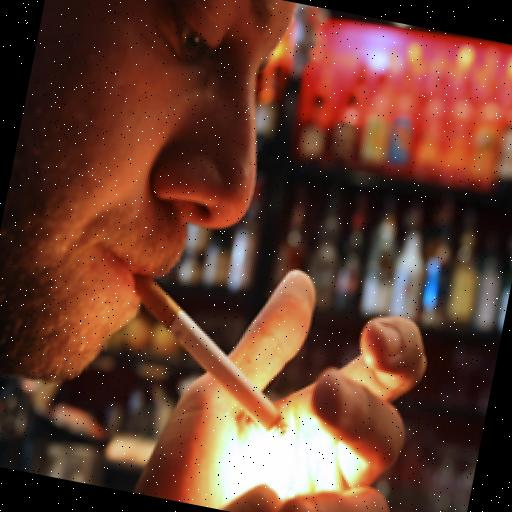terdeteksi merokok: (62, 103, 382, 506)
